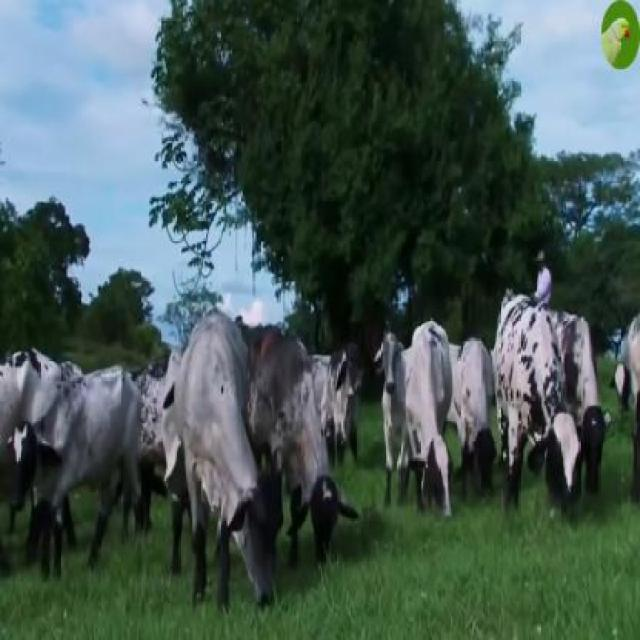Cow: (494, 294, 583, 523)
